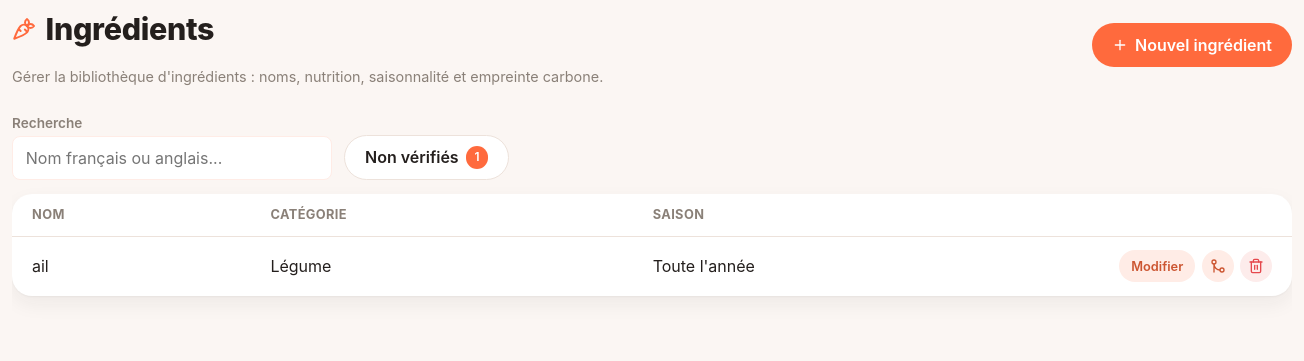
Scenario: AdminIngredientsView › shows a clear message when the ingredient is in use
The width and height of the screenshot is (1304, 361).
Click the button with class "danger" at [1256, 266], box [1240,250,1272,282]
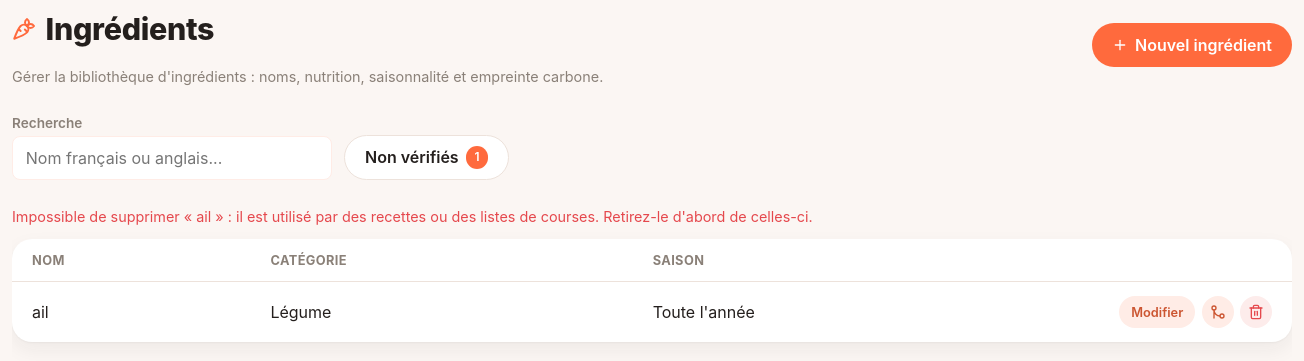
Expected: the message shows "utilisé par des recettes", [12,208,813,225]
